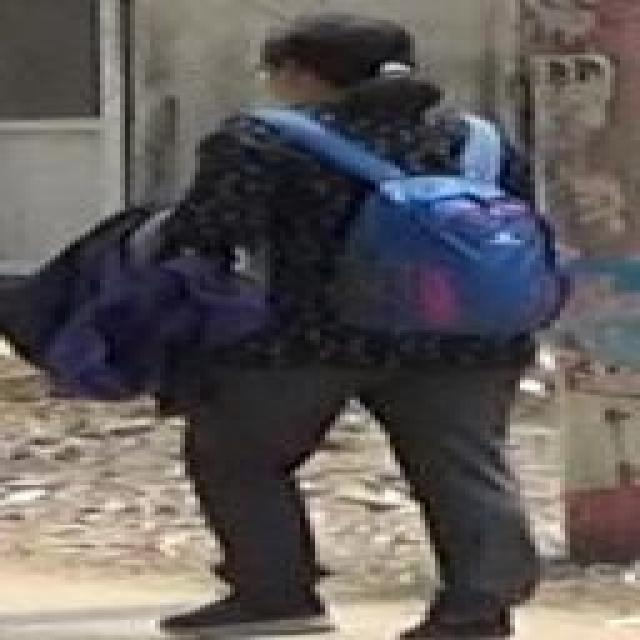adult: (146, 12, 545, 636)
